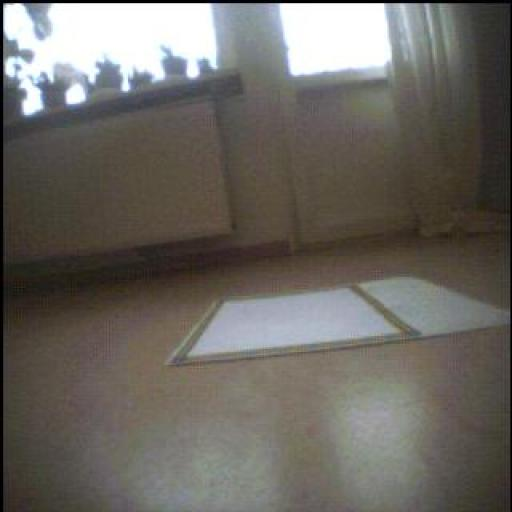Pad: (169, 278, 511, 366)
